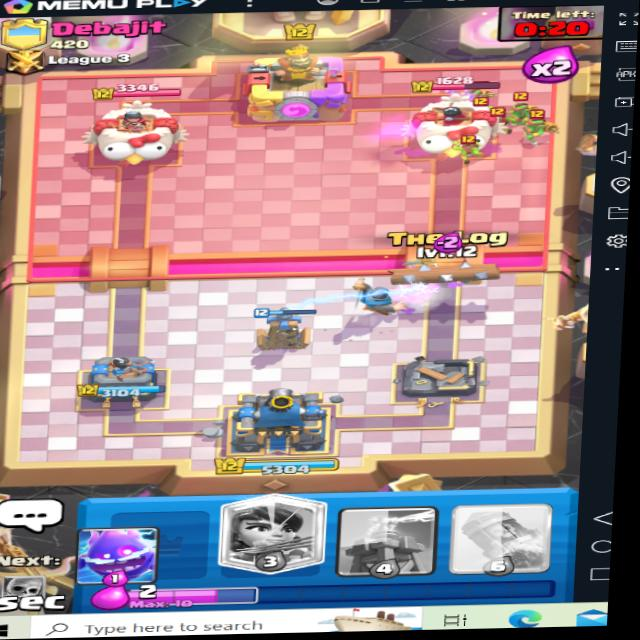Goblin: (438, 126, 484, 162)
Speargoblin: (520, 109, 557, 143), (505, 89, 535, 125)
